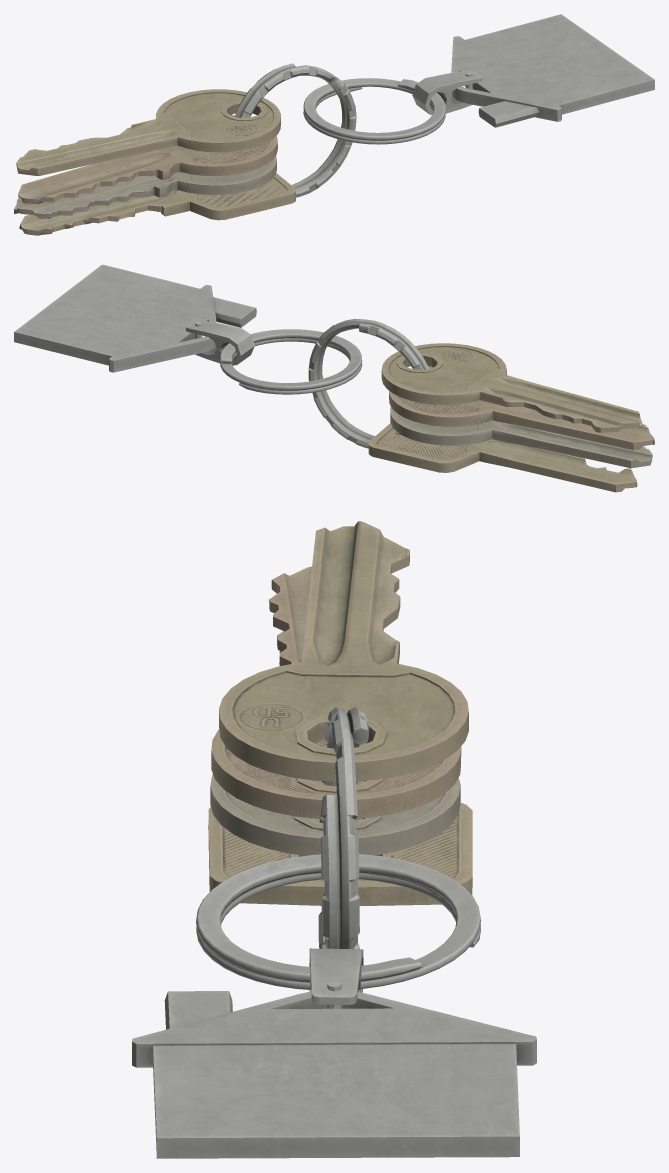
Rendered from keys.glb.
3 renders of one model, top to bottom at view 1: azimuth 30°, elevation 25°; view 2: azimuth 150°, elevation 25°; view 3: azimuth 270°, elevation 25°, orthographic. The views are drawn at different scales.
Visible parts, largest first — view 1: fob, key_0, blade_0, blade_1, ring_0, ring_1, blade_3, blade_2, key_3, key_1, key_2, clasp; view 2: fob, key_0, blade_0, blade_3, ring_1, ring_0, blade_2, key_3, blade_1, key_1, key_2, clasp; view 3: fob, key_0, ring_1, blade_0, key_3, key_1, ring_0, key_2, clasp, blade_1.
Part boxes in pixels (bbox=[...]): fob: bbox=[451, 14, 654, 127]; key_0: bbox=[156, 89, 280, 152]; blade_0: bbox=[16, 119, 177, 175]; blade_1: bbox=[18, 148, 180, 204]; ring_0: bbox=[234, 63, 356, 197]; ring_1: bbox=[303, 78, 445, 144]; blade_3: bbox=[19, 190, 189, 235]; blade_2: bbox=[14, 173, 176, 218]; key_3: bbox=[186, 173, 295, 220]; key_1: bbox=[167, 115, 277, 176]; key_2: bbox=[175, 156, 276, 194]; clasp: bbox=[412, 70, 481, 114]; fob: bbox=[14, 264, 256, 372]; key_0: bbox=[381, 343, 506, 404]; blade_0: bbox=[480, 375, 642, 432]; blade_3: bbox=[477, 439, 637, 492]; ring_1: bbox=[220, 329, 362, 394]; ring_0: bbox=[308, 318, 429, 448]; blade_2: bbox=[492, 421, 652, 468]; key_3: bbox=[368, 423, 478, 472]; blade_1: bbox=[490, 403, 654, 450]; key_1: bbox=[389, 366, 493, 426]; key_2: bbox=[390, 407, 494, 445]; clasp: bbox=[186, 320, 254, 365]; fob: bbox=[132, 991, 536, 1158]; key_0: bbox=[219, 661, 468, 781]; ring_1: bbox=[196, 854, 480, 989]; blade_0: bbox=[301, 521, 409, 668]; key_3: bbox=[208, 802, 472, 905]; key_1: bbox=[211, 729, 461, 818]; ring_0: bbox=[318, 707, 369, 949]; key_2: bbox=[210, 774, 460, 855]; clasp: bbox=[309, 948, 363, 1008]; blade_1: bbox=[269, 566, 311, 665].
Size of the model in its own units: 3.08 by 0.629 by 0.908.
Materials: 1 (1 with a texture image).
